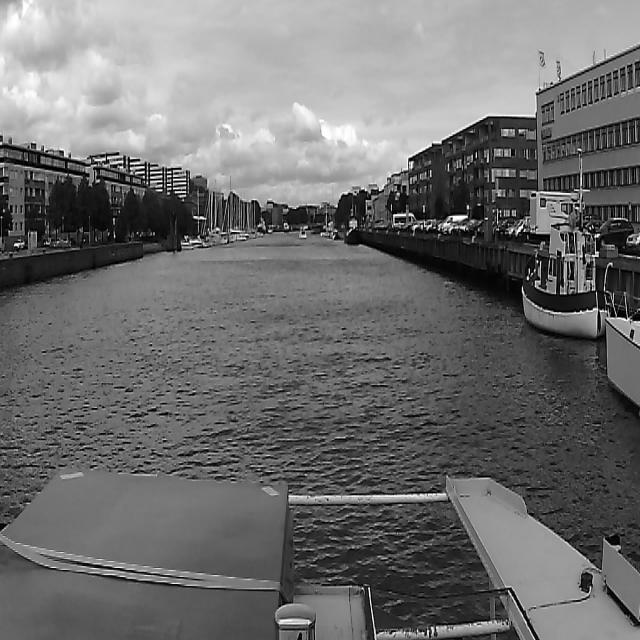ship: (520, 148, 607, 342), (196, 177, 230, 252), (344, 196, 362, 250), (254, 216, 266, 237), (298, 225, 308, 242), (311, 224, 325, 236), (330, 226, 340, 240), (284, 221, 288, 231)
